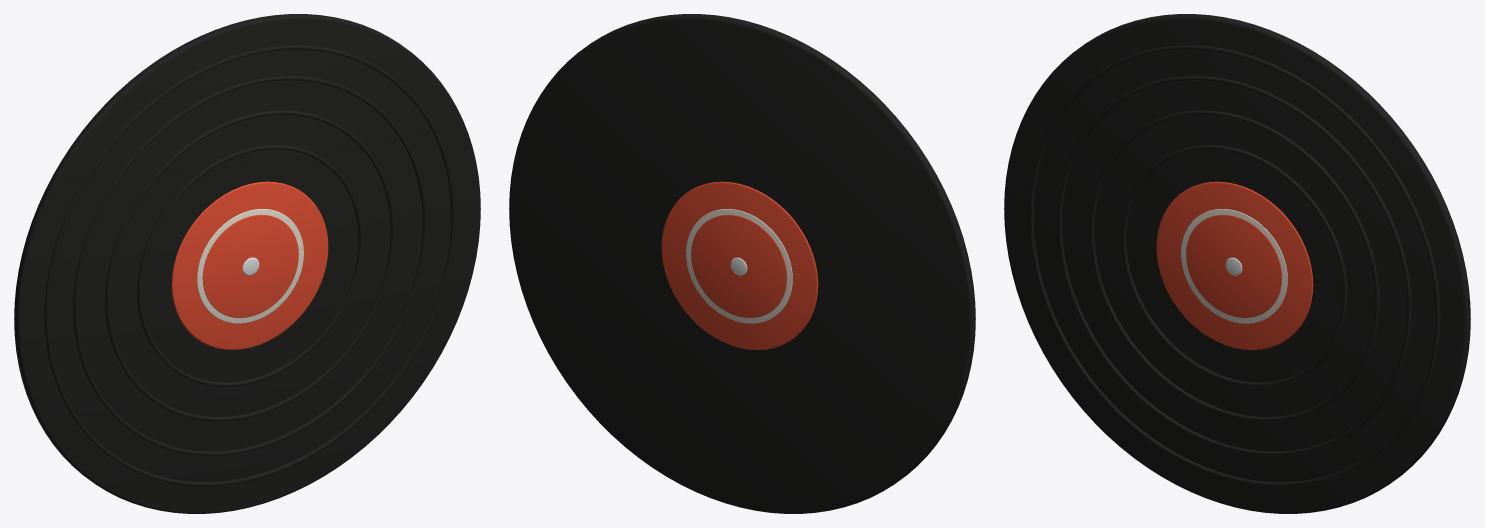
The model's file is life-vinyl.glb.
3 views of the same model, side by side, from view 1: azimuth 30°, elevation 25°; view 2: azimuth 150°, elevation 25°; view 3: azimuth 330°, elevation 25° (orthographic).
Visible parts, largest first — view 1: Disc, Label, LabelCore, Groove.003, Groove.002, Groove.001, Groove, LabelRing; view 2: Disc, Label, LabelCore, LabelRing; view 3: Disc, Label, LabelCore, Groove.003, Groove.002, Groove.001, Groove, LabelRing.
Part boxes in pixels (x1,y1,x2,y2): Disc: (14,14,480,513); Label: (171,181,328,349); LabelCore: (202,214,298,317); Groove.003: (44,45,455,486); Groove.002: (73,76,426,455); Groove.001: (105,110,394,421); Groove: (137,145,362,386); LabelRing: (197,209,303,323); Disc: (509,14,975,513); Label: (661,181,818,349); LabelCore: (691,214,787,317); LabelRing: (686,209,792,323); Disc: (1004,14,1470,513); Label: (1156,181,1313,349); LabelCore: (1186,214,1282,317); Groove.003: (1029,45,1440,486); Groove.002: (1058,76,1411,455); Groove.001: (1090,110,1379,421); Groove: (1122,145,1347,386); LabelRing: (1181,209,1287,323).
Size of the model in its own units: 2.6 by 2.6 by 0.075.
